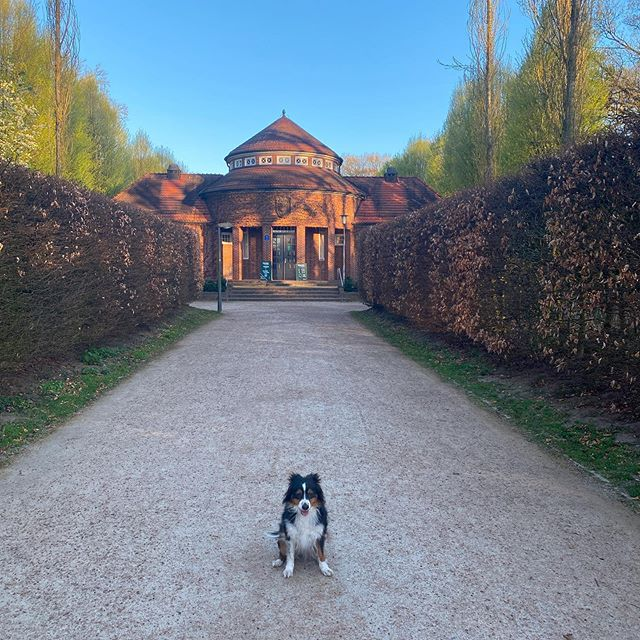animal: (259, 461, 344, 597)
building: (130, 122, 446, 314)
sky: (67, 1, 528, 172)
vegetation: (380, 1, 640, 422), (1, 55, 208, 425)
